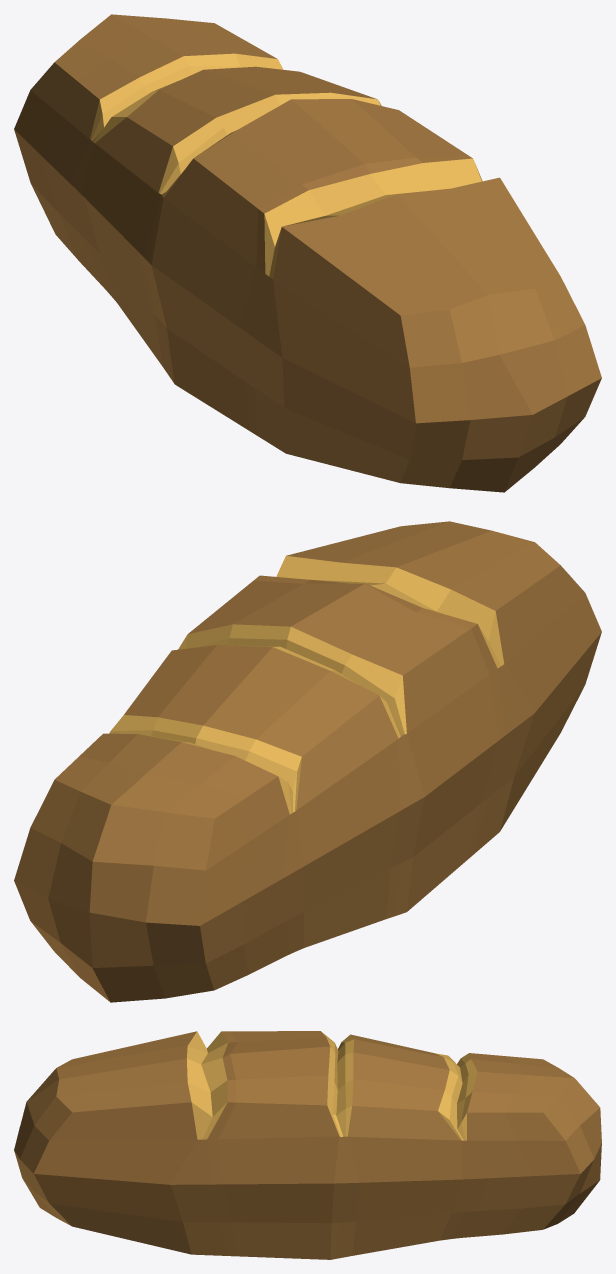
File: Bread.fbx
3 renders of one model, top to bottom at view 1: azimuth 30°, elevation 25°; view 2: azimuth 150°, elevation 25°; view 3: azimuth 270°, elevation 25°, orthographic. The views are drawn at different scales.
Parts seen in each view (by area): view 1: Cube; view 2: Cube; view 3: Cube.
Boxes of the visible parts, x1,y1,x2,y2 form: Cube: (14,14,601,492); Cube: (14,521,601,1002); Cube: (14,1031,601,1259).
Bounding box in the file's own units: 346 × 330 × 948.
